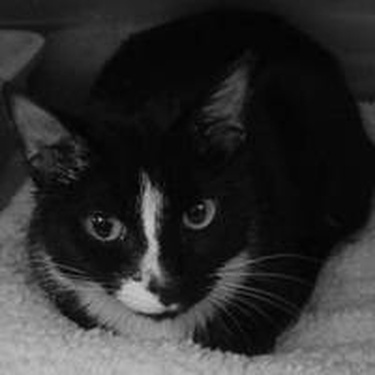cat: (12, 7, 365, 343)
